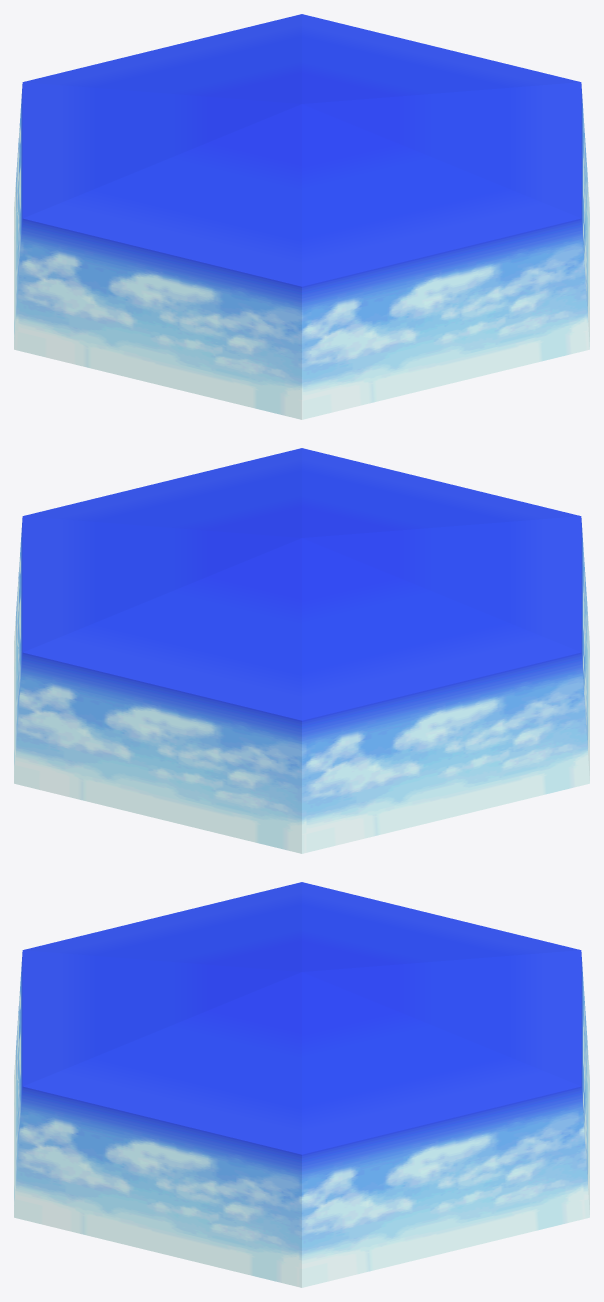
Rendered from snow_course_V.glb.
3 renders of one model, top to bottom at view 1: azimuth 30°, elevation 25°; view 2: azimuth 150°, elevation 25°; view 3: azimuth 270°, elevation 25°, orthographic.
Parts seen in each view (by area): view 1: snow_course_V; view 2: snow_course_V; view 3: snow_course_V.
Boxes of the visible parts, x1,y1,x2,y2 form: snow_course_V: (14,14,589,419); snow_course_V: (14,448,589,853); snow_course_V: (14,882,589,1287).
Size of the model in its own units: 1263 by 368 by 1094.
2 materials, 2 textured.
